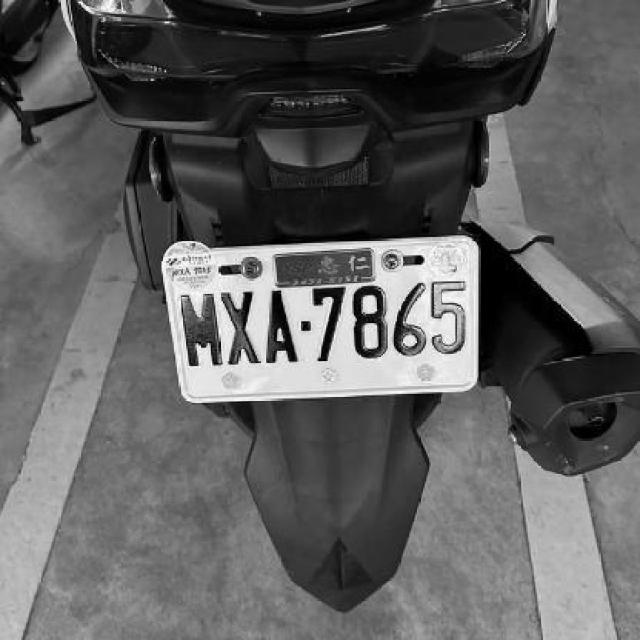-: (298, 320, 311, 331)
5: (428, 282, 468, 356)
6: (389, 283, 428, 357)
7: (310, 282, 344, 360)
8: (349, 281, 388, 357)
A: (264, 286, 302, 366)
M: (177, 286, 222, 371)
X: (217, 288, 261, 364)
